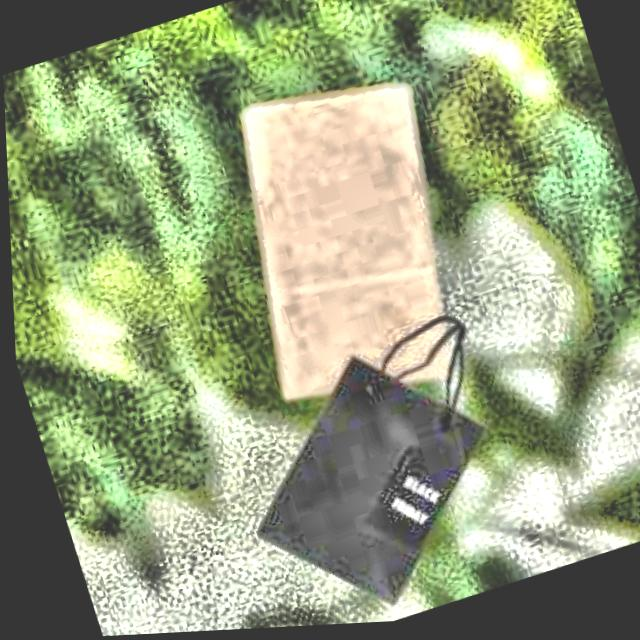Paper-bag: (177, 35, 508, 456), (203, 308, 538, 632)
